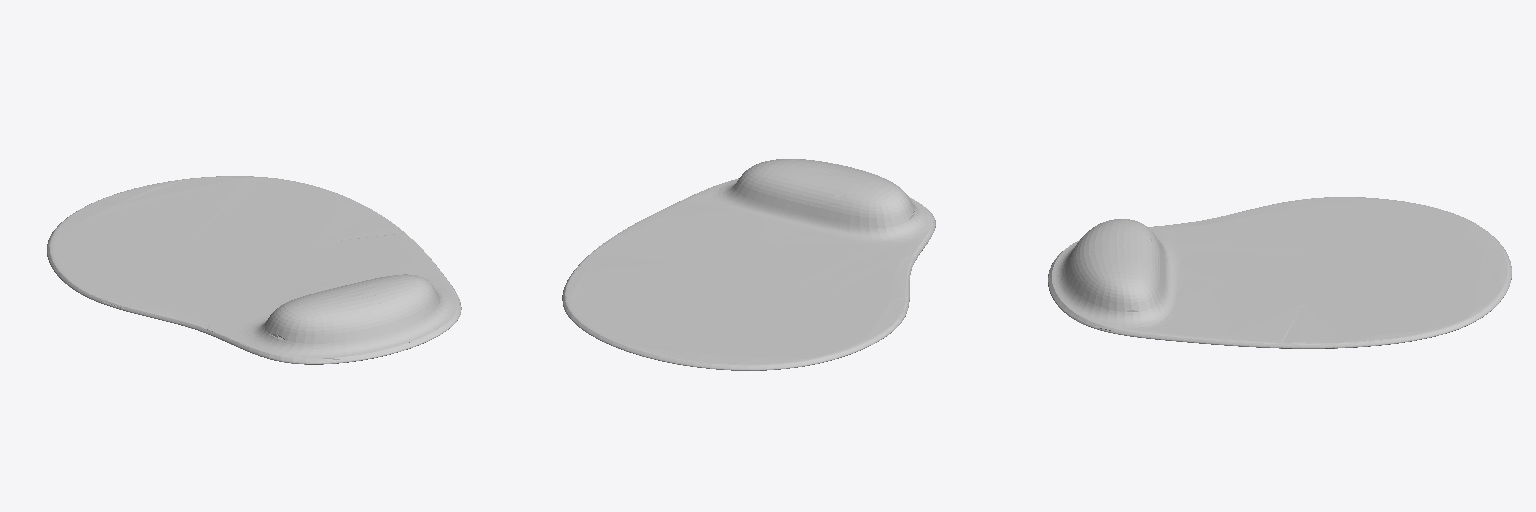
File: mouse_pad.obj
3 renders of one model, left to right at view 1: azimuth 30°, elevation 25°; view 2: azimuth 150°, elevation 25°; view 3: azimuth 270°, elevation 25°, orthographic.
Visible parts, largest first — view 1: obj_01__16_; view 2: obj_01__16_; view 3: obj_01__16_.
Part boxes in pixels (x1,y1,x2,y2): obj_01__16_: (47, 176, 461, 364); obj_01__16_: (562, 159, 935, 370); obj_01__16_: (1048, 197, 1511, 348).
Bounding box in the file's own units: 8.51 × 1.01 × 11.18.